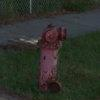Hydrant: (32, 24, 82, 88)
